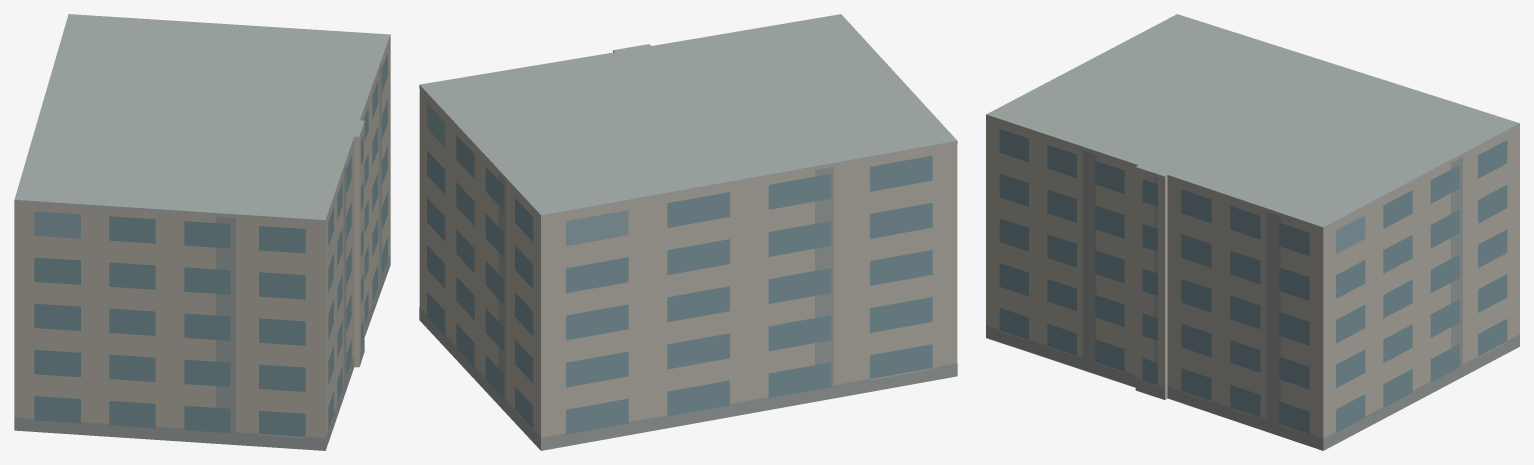
File: survey-upis-32669913.glb
3 renders of one model, left to right at view 1: azimuth 30°, elevation 25°; view 2: azimuth 150°, elevation 25°; view 3: azimuth 270°, elevation 25°, orthographic. The views are drawn at different scales.
Visible parts, largest first — view 1: survey-upis-32669913.tmp; view 2: survey-upis-32669913.tmp; view 3: survey-upis-32669913.tmp.
Boxes of the visible parts, <box> form: survey-upis-32669913.tmp: <box>14,14,390,450</box>; survey-upis-32669913.tmp: <box>419,14,957,450</box>; survey-upis-32669913.tmp: <box>986,14,1519,450</box>.
Bounding box in the file's own units: 31.23 × 15.25 × 33.01.
